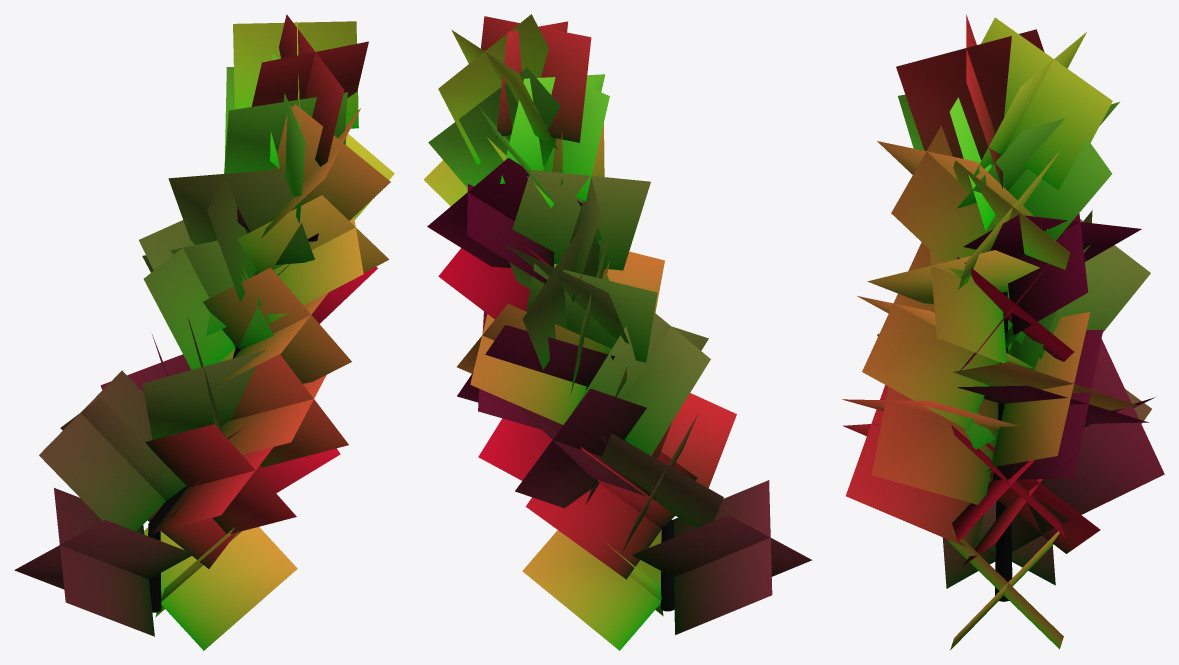
The model's file is Tree_15.fbx.
3 renders of one model, left to right at view 1: azimuth 30°, elevation 25°; view 2: azimuth 150°, elevation 25°; view 3: azimuth 270°, elevation 25°, orthographic. The views are drawn at different scales.
Parts seen in each view (by area): view 1: Tree_15; view 2: Tree_15; view 3: Tree_15.
Part boxes in pixels (x1,y1,x2,y2): Tree_15: (14, 14, 394, 650); Tree_15: (423, 14, 812, 650); Tree_15: (842, 14, 1164, 650).
Size of the model in its own units: 652 by 1055 by 443.
